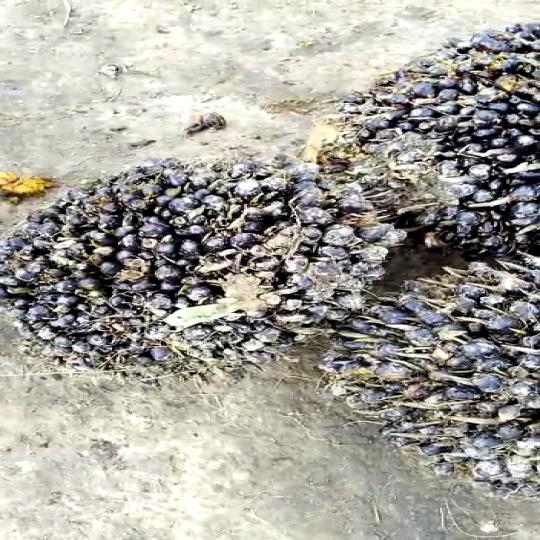mentah: (0, 154, 431, 388), (298, 20, 540, 263), (315, 255, 538, 508)
